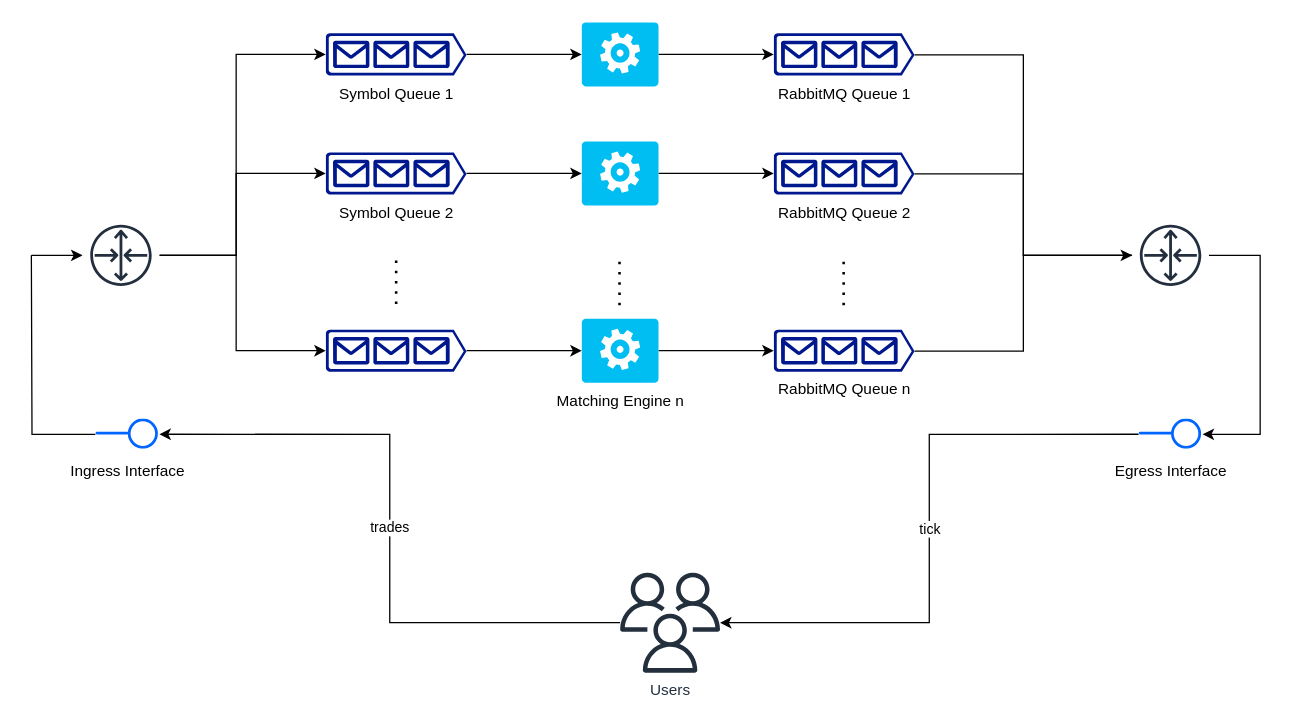
Image size: 1293x721. Some labels were removed from this diagram. Here are the shapes that lost their labels. From the top down, the box of each, then its label:
(581, 22, 658, 86): Matching Engine 1
(581, 141, 658, 205): Matching Engine 2
(81, 216, 159, 294): Trade Router
(1131, 216, 1209, 294): Symbol Data Relay
(325, 329, 466, 371): Symbol Queue n
